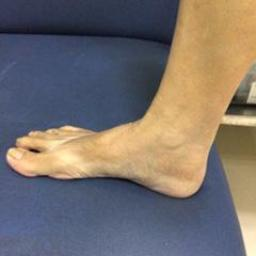Medial View -Right Foot-: (3, 70, 222, 205)
